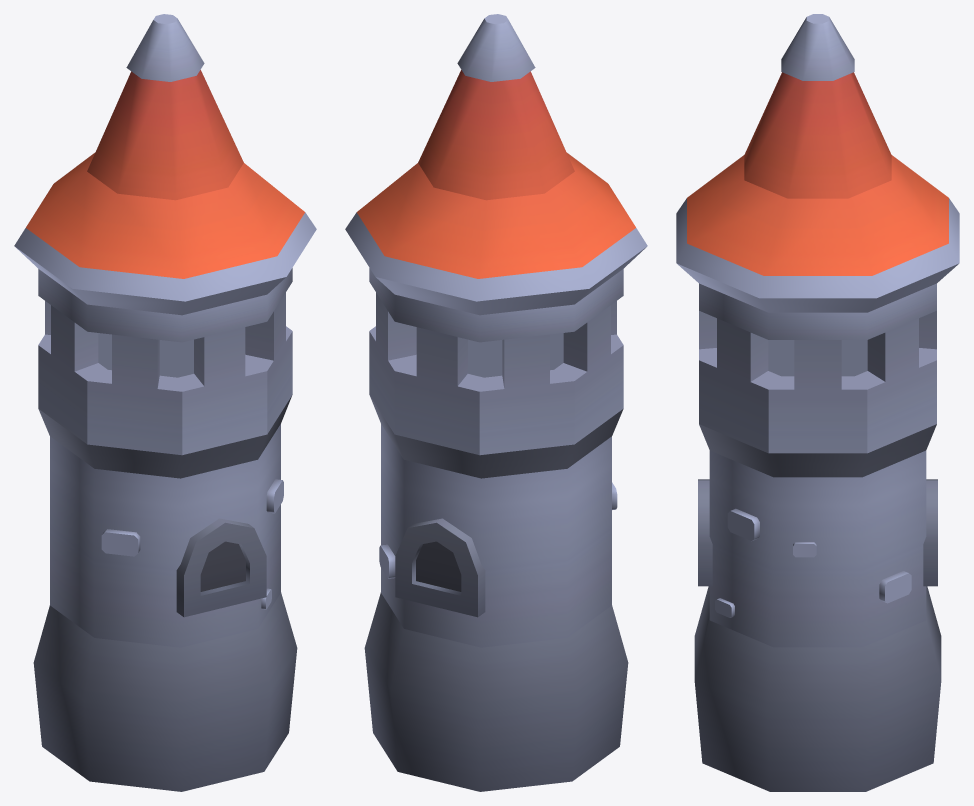
File: kenney-pirate-tower-complete-large.glb
The picture shows the model from 3 angles, left to right: view 1: azimuth 30°, elevation 25°; view 2: azimuth 150°, elevation 25°; view 3: azimuth 270°, elevation 25°; orthographic projection.
Visible parts, largest first — view 1: tower-complete-large; view 2: tower-complete-large; view 3: tower-complete-large.
Boxes of the visible parts, <box> form: tower-complete-large: <box>14,14,316,791</box>; tower-complete-large: <box>345,14,647,791</box>; tower-complete-large: <box>676,14,959,791</box>.
Bounding box in the file's own units: 3.63 × 10.22 × 3.63.
Materials: 1 (1 with a texture image).
